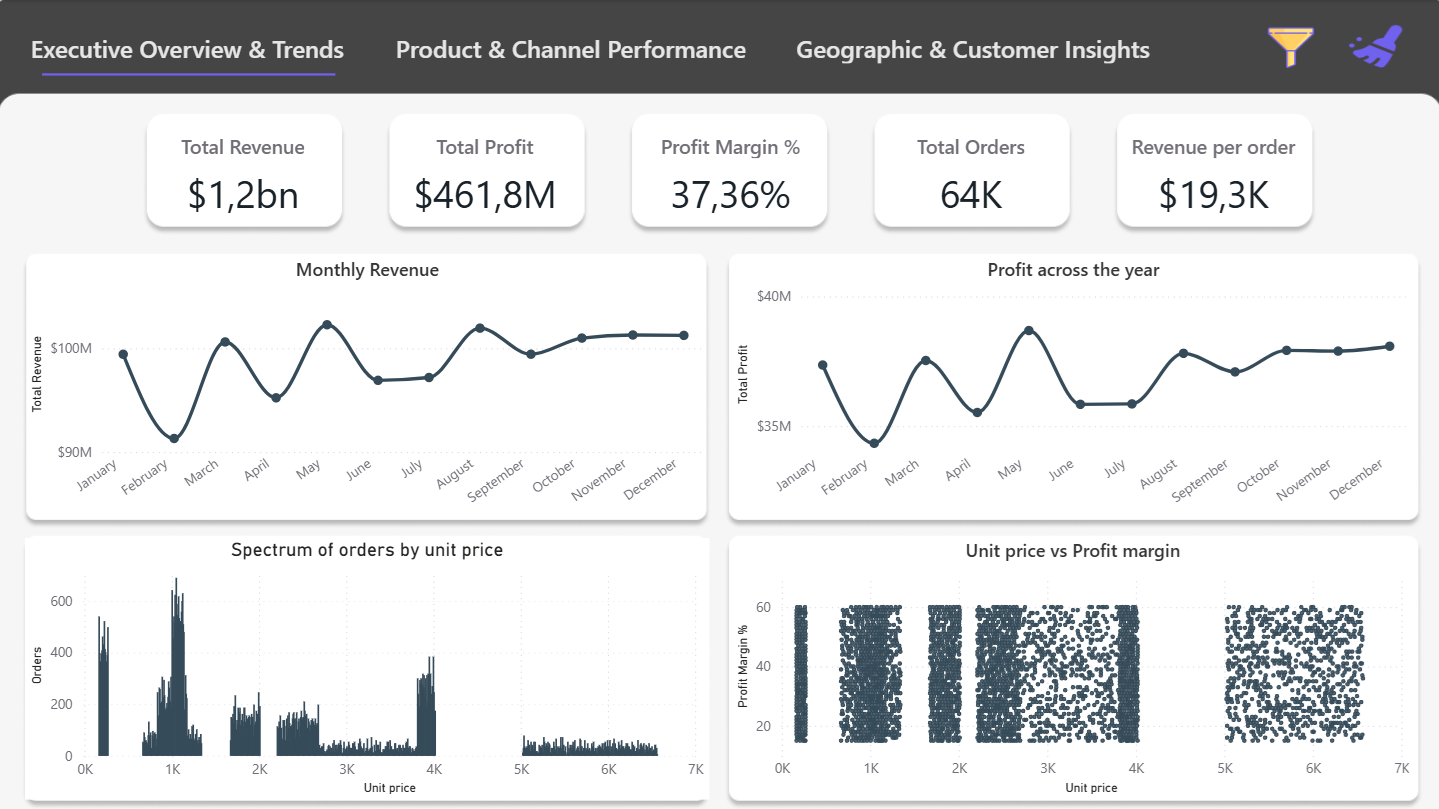

Layout of this report page (visuals, bound fields, positions):
{"tool":"powerbi","page":{"name":"Executive Overview & Trends","canvas":[1280,720],"ordinal":0},"visuals":[{"type":"cardVisual","fields":{"Data":["Measures_.Total Revenue"]},"box":[120.9,100,193.6,102.7],"z":0},{"type":"cardVisual","fields":{"Data":["Measures_.Total Profit"]},"box":[335.5,100,193.6,103.6],"z":1000},{"type":"cardVisual","fields":{"Data":["Measures_.Profit Margin %"]},"box":[552.6,100,194.9,103.8],"z":2000},{"type":"cardVisual","fields":{"Data":["Measures_.Total Orders"]},"box":[766.4,100,193.6,103.6],"z":3000},{"type":"cardVisual","fields":{"Data":["Measures_.Revenue per order"]},"box":[980.9,100,194.5,103.6],"z":4000},{"type":"lineChart","title":"Monthly Revenue","fields":{"Category":["Sales_data.order_month_name"],"Y":["Measures_.Total Revenue"]},"box":[23.6,228.2,607.3,240.9],"z":5000},{"type":"lineChart","title":"Profit across the year","fields":{"Category":["Sales_data.order_month_name"],"Y":["Measures_.Total Profit"]},"box":[650,228.2,607.3,240.9],"z":6000},{"type":"scatterChart","title":"Unit price vs Profit margin","fields":{"X":["Sales_data.unit_price"],"Y":["Sales_data.profit_margin_pct"]},"box":[650,477.3,606.4,231.8],"z":7000},{"type":"actionButton","box":[337.2,14.1,342.3,55.1],"z":8000},{"type":"actionButton","box":[9,14.1,317.9,55.1],"z":9000},{"type":"actionButton","box":[693.8,13.8,342.5,55],"z":10000},{"type":"actionButton","box":[1188,14,70,55],"z":12000},{"type":"actionButton","box":[1120,21,53,42],"z":13000},{"type":"columnChart","title":"Spectrum of orders by unit price","fields":{"Y":["CountNonNull(Sales_data.order_month_name)"],"Category":["Sales_data.unit_price"]},"box":[24,477,607,232],"z":14000}]}

Visuals, with their boxes in screenshot pixels (x1, y1, x2, y2), scaled from the page's 1280x720 canvas onto the 1439x809 screenshot:
cardVisual - Measures_.Total Revenue: locate(136, 112, 354, 228)
cardVisual - Measures_.Total Profit: locate(377, 112, 595, 229)
cardVisual - Measures_.Profit Margin %: locate(621, 112, 840, 229)
cardVisual - Measures_.Total Orders: locate(862, 112, 1079, 229)
cardVisual - Measures_.Revenue per order: locate(1103, 112, 1321, 229)
"Monthly Revenue" lineChart: locate(27, 256, 709, 527)
"Profit across the year" lineChart: locate(731, 256, 1413, 527)
"Unit price vs Profit margin" scatterChart: locate(731, 536, 1412, 797)
actionButton: locate(379, 16, 764, 78)
actionButton: locate(10, 16, 368, 78)
actionButton: locate(780, 16, 1165, 77)
actionButton: locate(1336, 16, 1414, 78)
actionButton: locate(1259, 24, 1319, 71)
"Spectrum of orders by unit price" columnChart: locate(27, 536, 709, 797)
